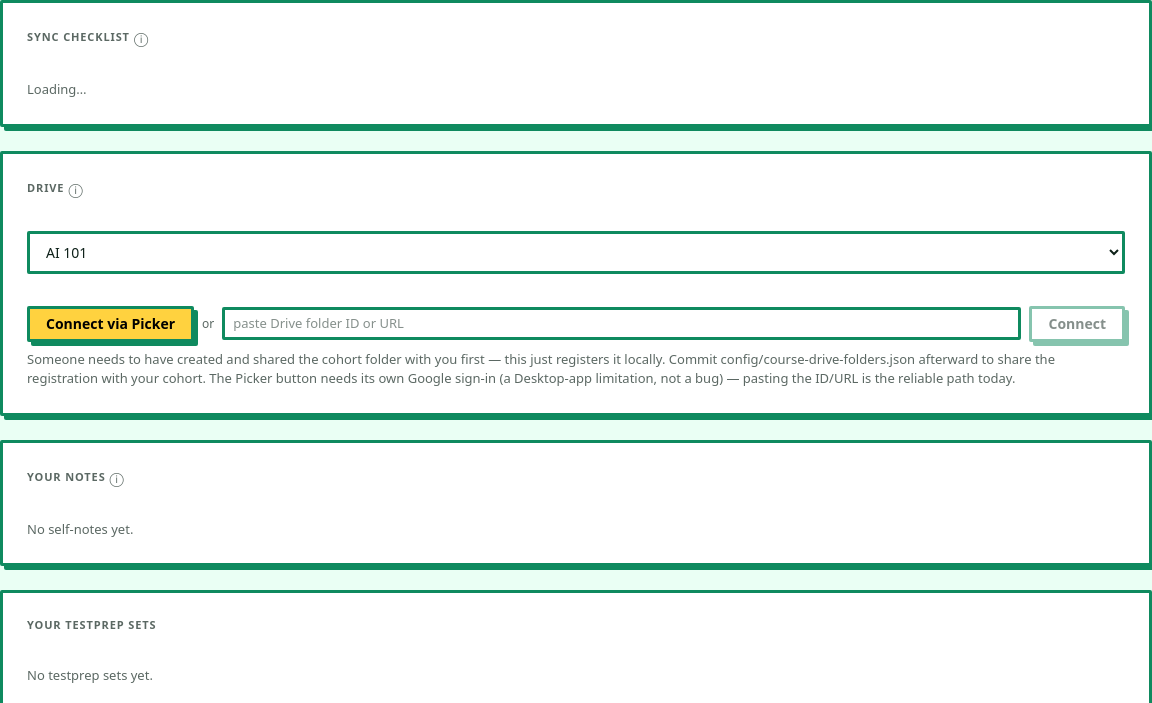
it: connecting: picks a folder, registers it, and the listing appears without a reload
The image size is (1152, 703).
Click the button "Connect via Picker": (111, 324) [27,306,194,342]
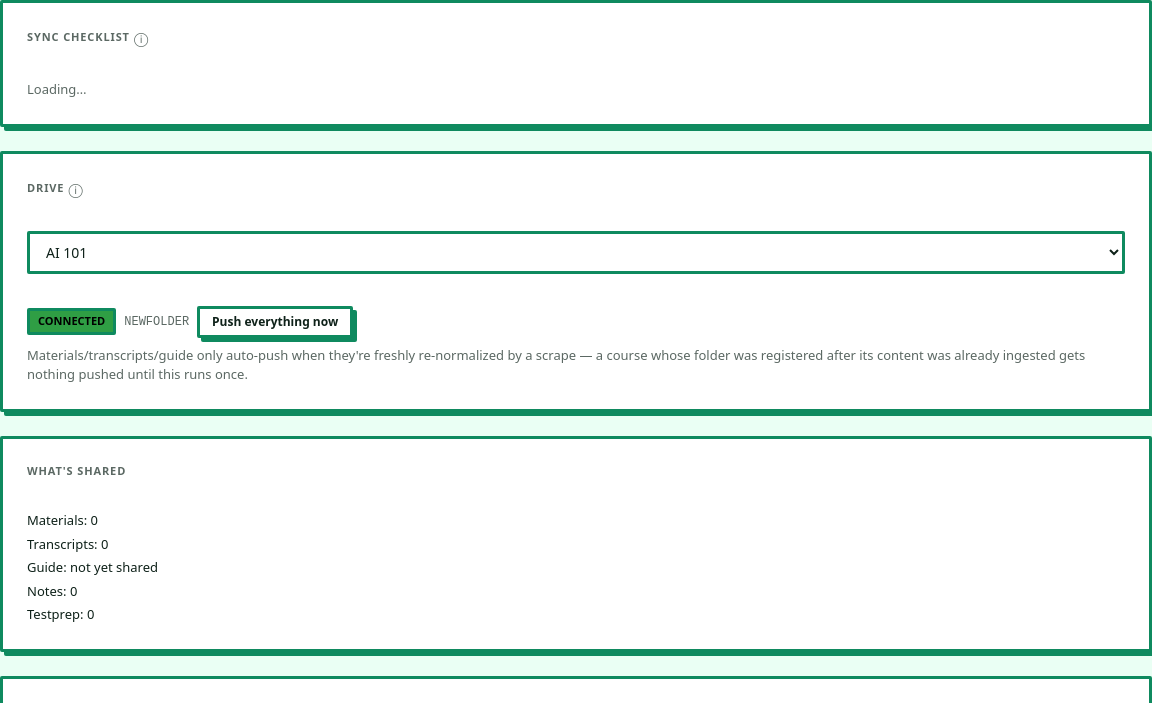
Result: the text "Connected" is shown at [27,308,116,335]
